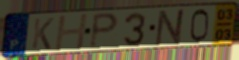0: (189, 8, 210, 43)
3: (122, 11, 147, 47)
H: (53, 12, 90, 53)
K: (30, 17, 55, 51)
N: (153, 7, 189, 47)
P: (88, 11, 121, 50)
